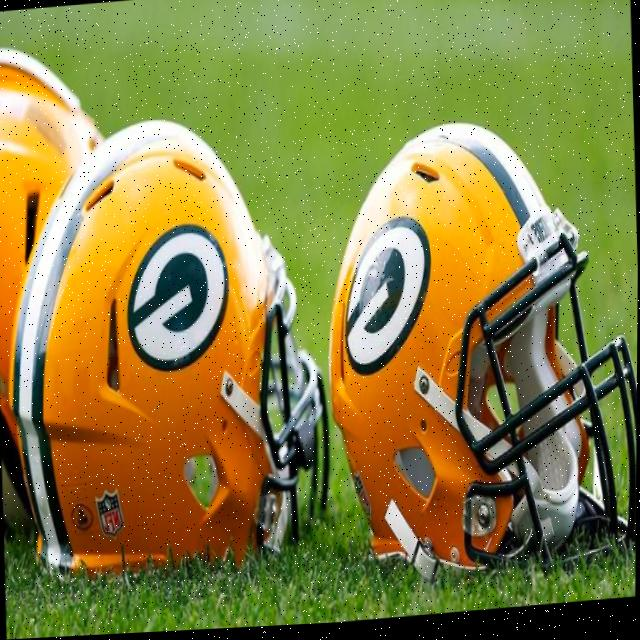illegal_helmet: (0, 100, 337, 594), (316, 100, 639, 597)
